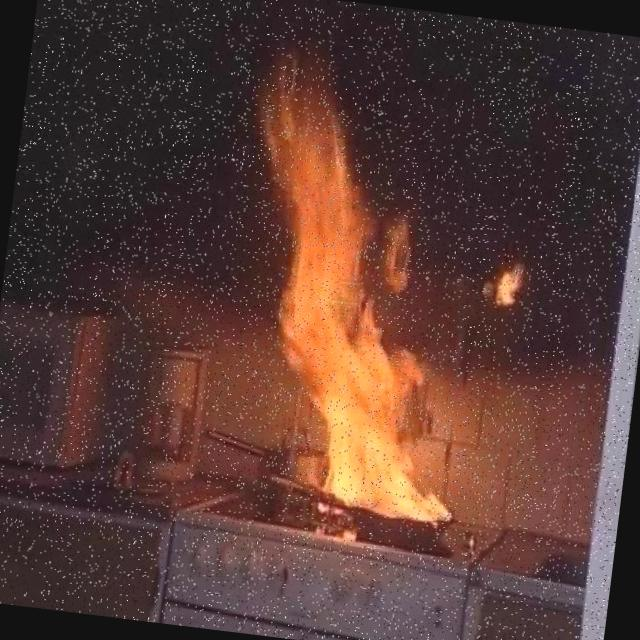fire: (194, 61, 568, 578)
